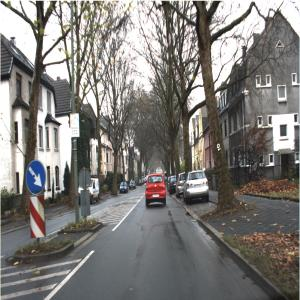keep right: (26, 160, 47, 196)
